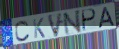A: (97, 6, 116, 29)
C: (14, 20, 31, 42)
K: (32, 17, 46, 39)
N: (62, 9, 83, 37)
P: (82, 8, 98, 32)
V: (46, 12, 64, 39)
